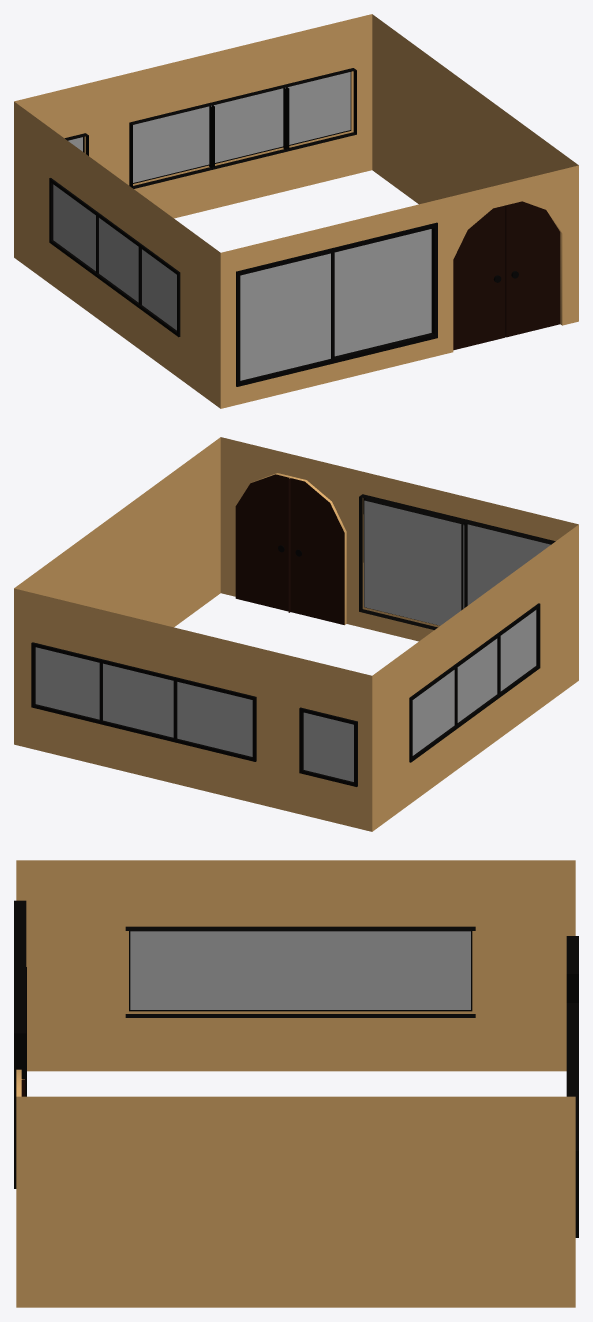
Rendered from Prop_HouseBottom_02.FBX.
3 views of the same model, one above another, from view 1: azimuth 30°, elevation 25°; view 2: azimuth 150°, elevation 25°; view 3: azimuth 270°, elevation 25° (orthographic). The views are drawn at different scales.
Parts seen in each view (by area): view 1: Prop_HouseBottom_02; view 2: Prop_HouseBottom_02; view 3: Prop_HouseBottom_02.
Part boxes in pixels (x1,y1,x2,y2): Prop_HouseBottom_02: [14, 14, 578, 408]; Prop_HouseBottom_02: [14, 437, 578, 831]; Prop_HouseBottom_02: [14, 860, 578, 1307].
Size of the model in its own units: 237 by 98.43 by 239.
